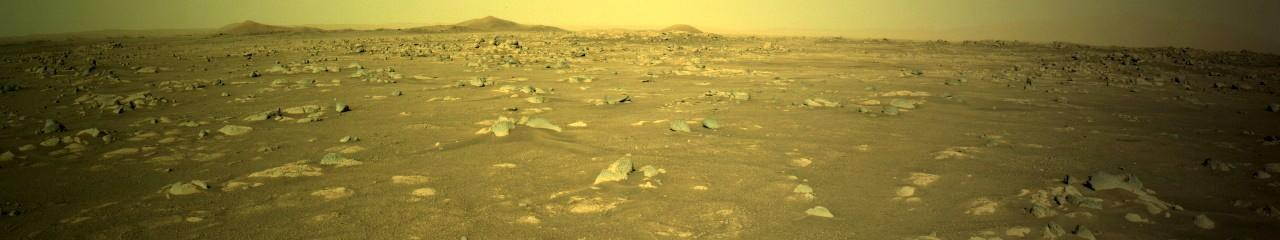bedrock: (5, 57, 1277, 239), (333, 31, 611, 46)
big_rock: (1003, 41, 1263, 59), (4, 134, 6, 146)
soil: (613, 43, 964, 59), (18, 47, 438, 58)
